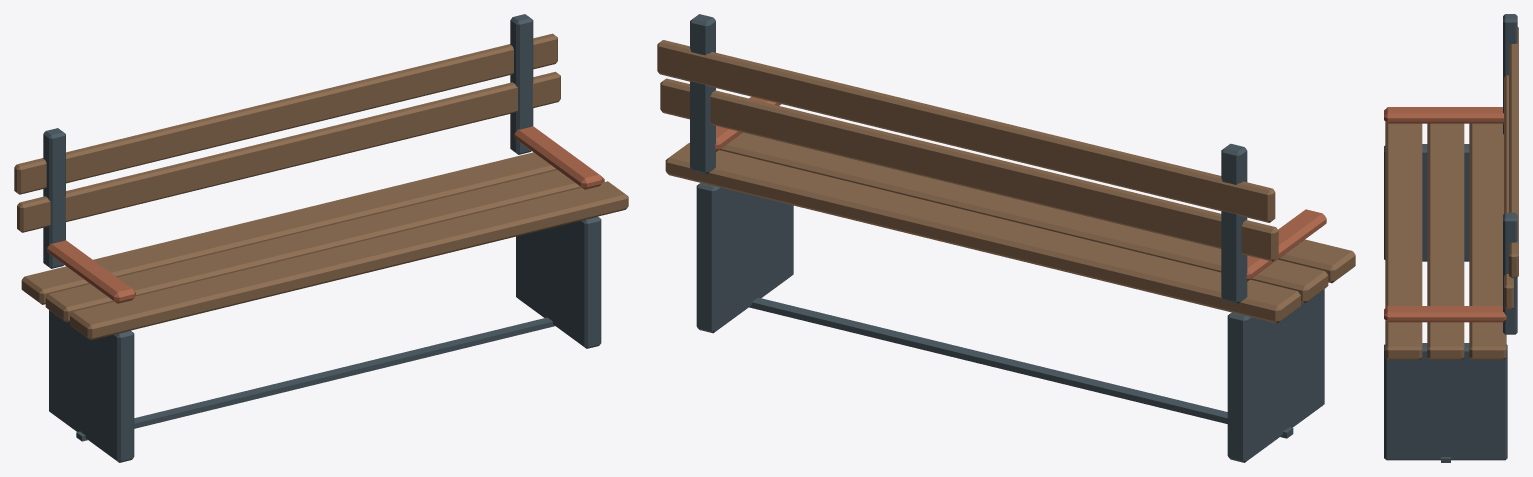
The model's file is bench.glb.
The picture shows the model from 3 angles, left to right: view 1: azimuth 30°, elevation 25°; view 2: azimuth 150°, elevation 25°; view 3: azimuth 270°, elevation 25°; orthographic projection. The views are drawn at different scales.
Visible parts, largest first — view 1: bench_bark, bench_slate, bench_terracotta; view 2: bench_bark, bench_slate, bench_terracotta; view 3: bench_bark, bench_slate, bench_terracotta.
Boxes of the visible parts, left/top/right/bottom form: bench_bark: left=14, top=33, right=628, bottom=340; bench_slate: left=43, top=14, right=601, bottom=462; bench_terracotta: left=47, top=126, right=603, bottom=303; bench_bark: left=657, top=40, right=1355, bottom=323; bench_slate: left=690, top=14, right=1324, bottom=462; bench_terracotta: left=715, top=96, right=1326, bottom=281; bench_bark: left=1385, top=27, right=1518, bottom=359; bench_slate: left=1384, top=14, right=1517, bottom=462; bench_terracotta: left=1384, top=107, right=1506, bottom=322.
Bounding box in the file's own units: 2.2 × 1.08 × 0.545.
